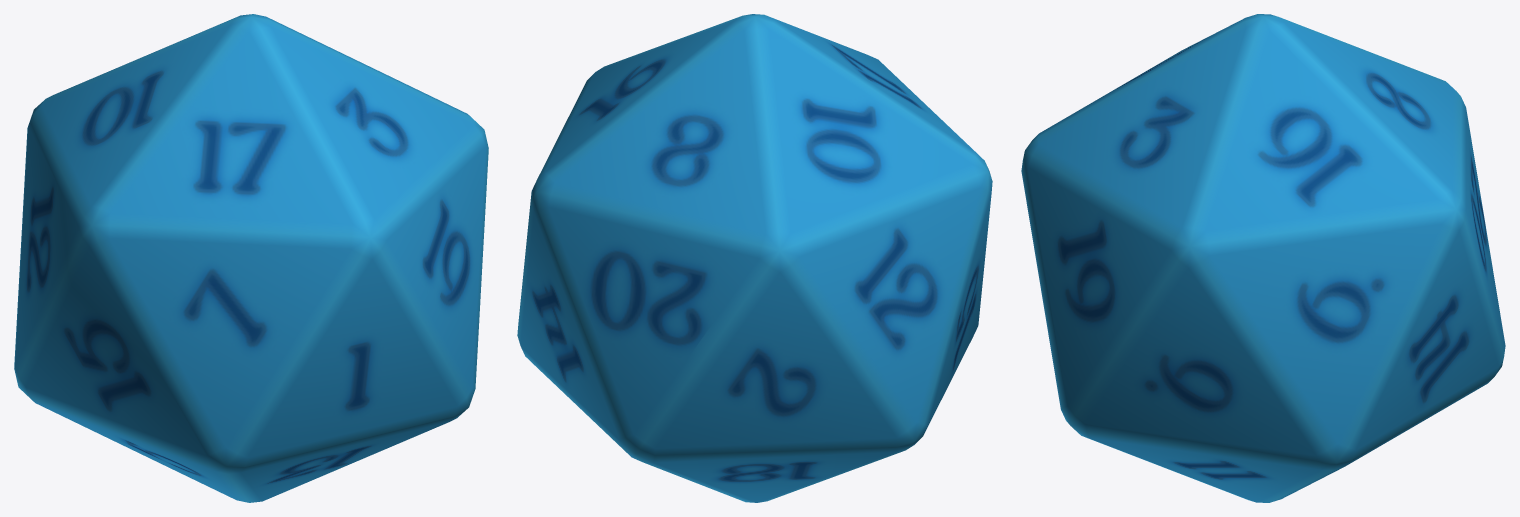
The model's file is bgb_d20_blue.glb.
3 views of the same model, side by side, from view 1: azimuth 30°, elevation 25°; view 2: azimuth 150°, elevation 25°; view 3: azimuth 270°, elevation 25° (orthographic).
Visible parts, largest first — view 1: D20_blue; view 2: D20_blue; view 3: D20_blue.
Boxes of the visible parts, bbox=[...] form: D20_blue: bbox=[14, 14, 488, 502]; D20_blue: bbox=[517, 14, 992, 502]; D20_blue: bbox=[1021, 14, 1505, 502].
Bounding box in the file's own units: 0.8402 × 0.9648 × 0.8757.
1 material, 1 textured.
